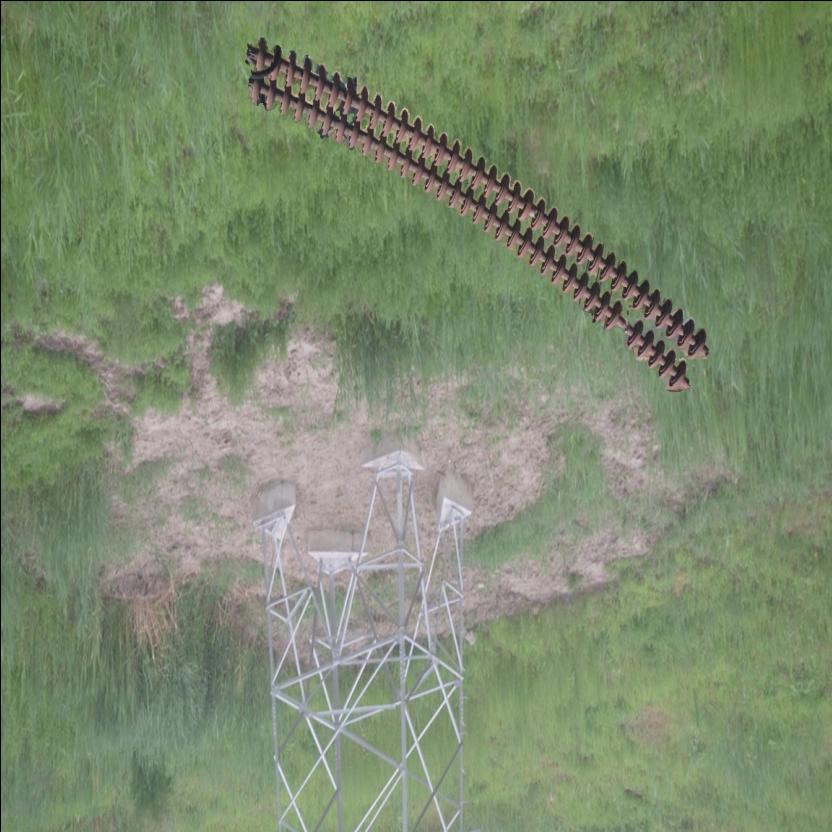defect: (603, 302, 645, 350)
